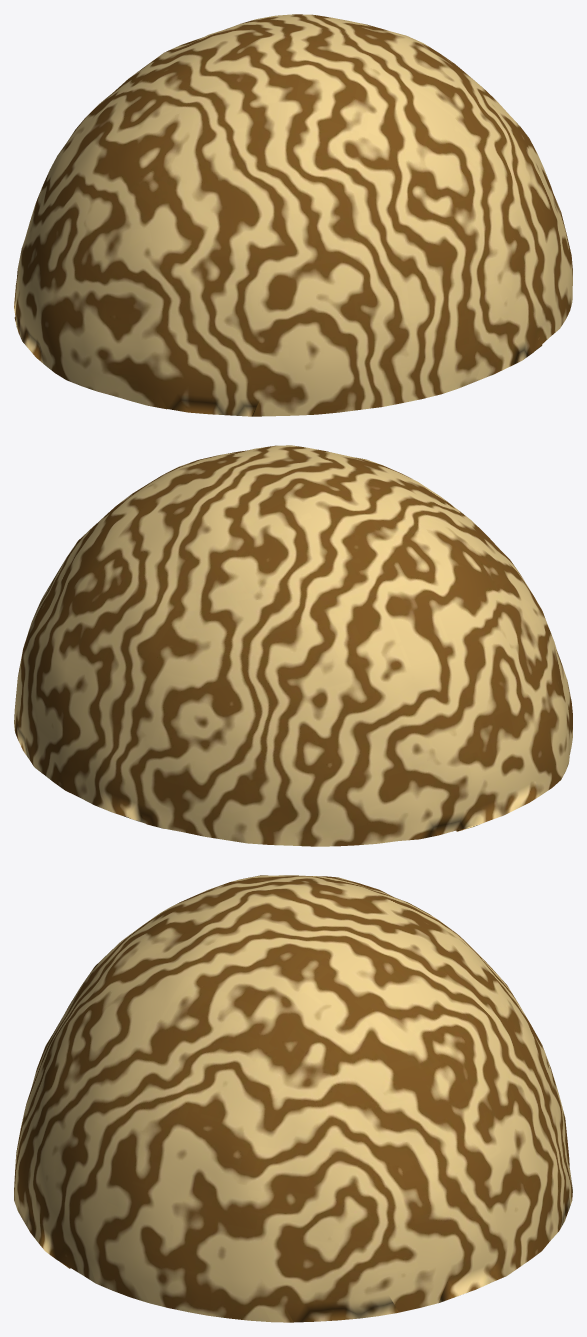
Rendered from d_brain.glb.
The picture shows the model from 3 angles, top to bottom: view 1: azimuth 30°, elevation 25°; view 2: azimuth 150°, elevation 25°; view 3: azimuth 270°, elevation 25°; orthographic projection. The views are drawn at different scales.
Visible parts, largest first — view 1: brain; view 2: brain; view 3: brain.
Part boxes in pixels (x1=…): brain: x1=14, y1=14, x2=572, y2=416; brain: x1=14, y1=445, x2=572, y2=846; brain: x1=14, y1=875, x2=572, y2=1322.
Size of the model in its own units: 0.9433 by 0.4852 by 0.8437.
Materials: 1 (1 with a texture image).
